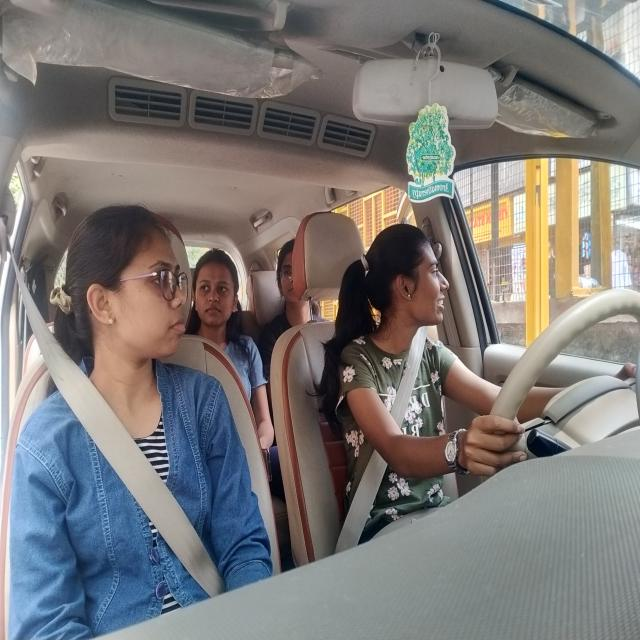LeftRight: (357, 209, 459, 363)
person: (64, 202, 197, 395), (187, 231, 244, 346), (279, 233, 315, 329)
